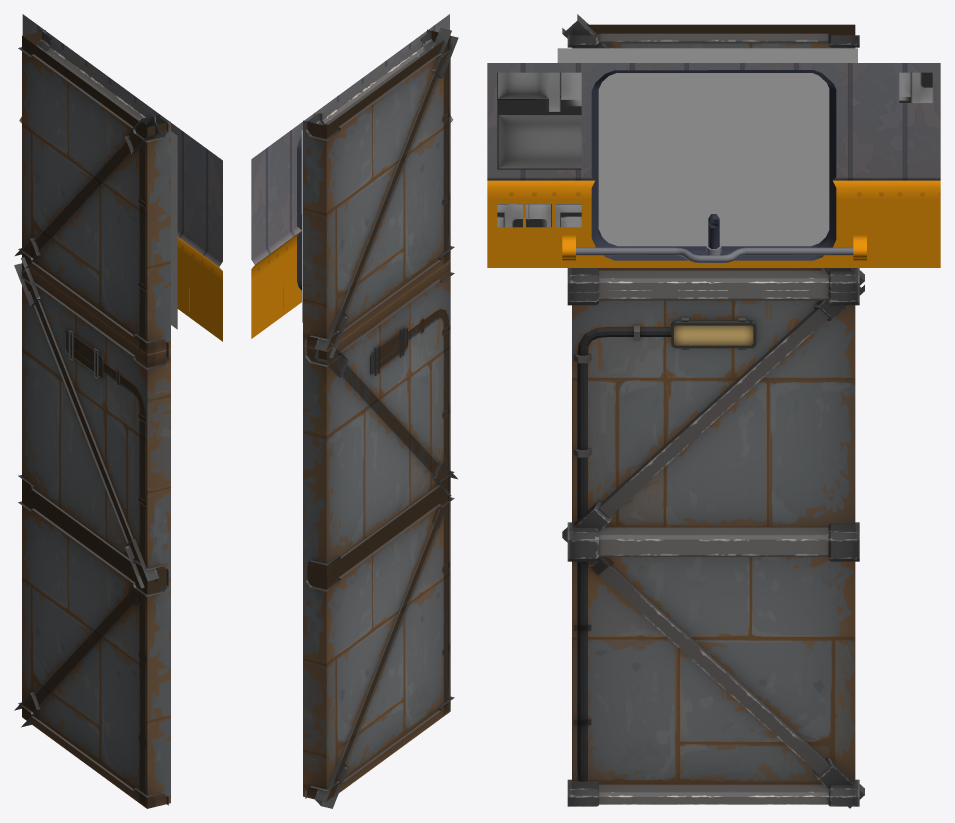
The model's file is obj_building_elevatorwallleft_bshape.fbx.
The picture shows the model from 3 angles, left to right: view 1: azimuth 30°, elevation 25°; view 2: azimuth 150°, elevation 25°; view 3: azimuth 270°, elevation 25°; orthographic projection. The views are drawn at different scales.
Visible parts, largest first — view 1: obj_building_elevatorwallleft_bshape; view 2: obj_building_elevatorwallleft_bshape; view 3: obj_building_elevatorwallleft_bshape.
Part boxes in pixels (x1,y1,x2,y2): obj_building_elevatorwallleft_bshape: [14, 14, 222, 808]; obj_building_elevatorwallleft_bshape: [251, 14, 458, 808]; obj_building_elevatorwallleft_bshape: [487, 14, 940, 808].
Size of the model in its own units: 4.52 by 46.07 by 24.
